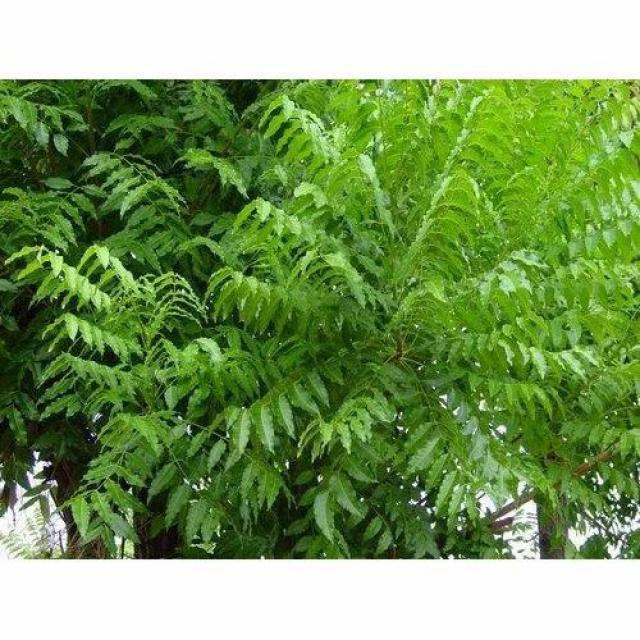Medicinal-Neem: (0, 220, 494, 540), (220, 94, 639, 413), (0, 90, 241, 235)
